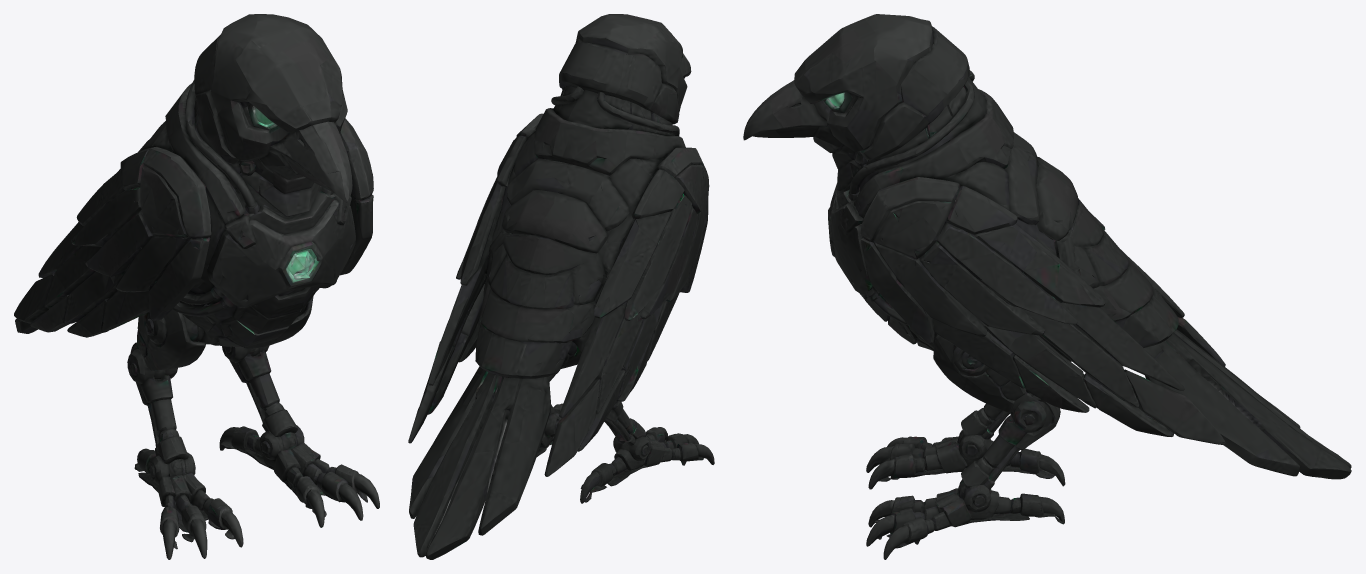
The model's file is rook.glb.
3 views of the same model, side by side, from view 1: azimuth 30°, elevation 25°; view 2: azimuth 150°, elevation 25°; view 3: azimuth 270°, elevation 25° (orthographic). The views are drawn at different scales.
Visible parts, largest first — view 1: mesh_node; view 2: mesh_node; view 3: mesh_node.
Boxes of the visible parts, x1=… form: mesh_node: x1=14, y1=14, x2=379, y2=559; mesh_node: x1=408, y1=14, x2=714, y2=559; mesh_node: x1=743, y1=14, x2=1351, y2=559.
Size of the model in its own units: 0.7816 by 1.69 by 1.9.
1 material, 1 textured.
